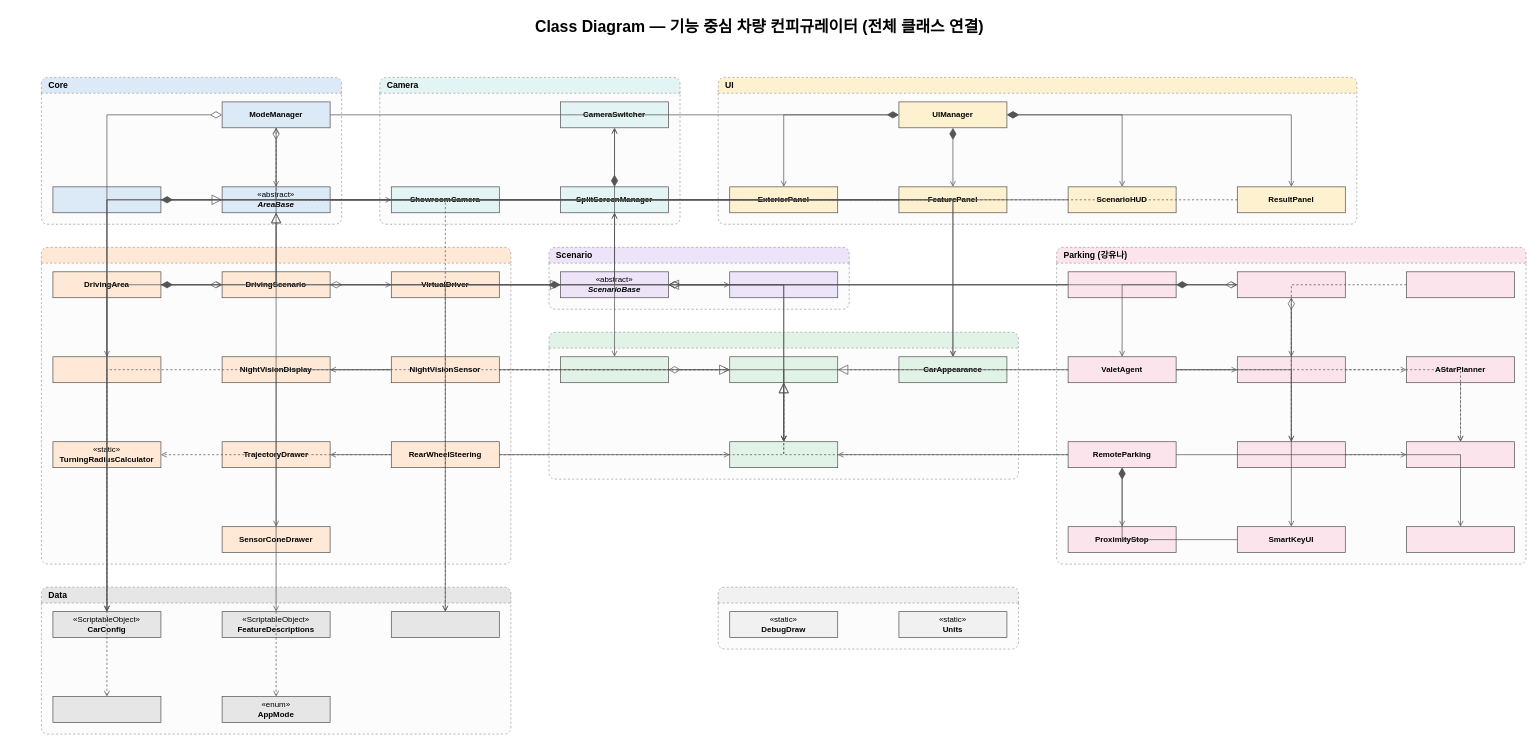
Image size: 1539x747. Some labels were removed from this diagram. Each missing label, with the box of its shape:
CarController: (729, 441, 838, 468)
CarFeatureSwitch: (560, 356, 669, 383)
ConfiguratorArea: (52, 186, 161, 213)
DoorSwingDrawer: (1406, 526, 1515, 553)
Driving (김예은): (41, 247, 511, 564)
GridMap: (1406, 441, 1515, 468)
ParkingArea: (1067, 271, 1176, 298)
ParkingScenario: (1237, 271, 1345, 298)
ParkingSlotManager: (1237, 356, 1345, 383)
Pedestrian: (52, 356, 161, 383)
ReservationCellDrawer: (1406, 271, 1515, 298)
ReservationTable: (1237, 441, 1345, 468)
ScenarioResult: (391, 611, 499, 638)
ScenarioTrigger: (729, 271, 838, 298)
Utils (시각화 클래스들이 공용으로 사용, 선 생략): (717, 586, 1018, 649)
Vehicle: (548, 332, 1018, 479)
«enum» FeatureId: (52, 696, 161, 723)
«interface» ICarFeature: (729, 356, 838, 383)
